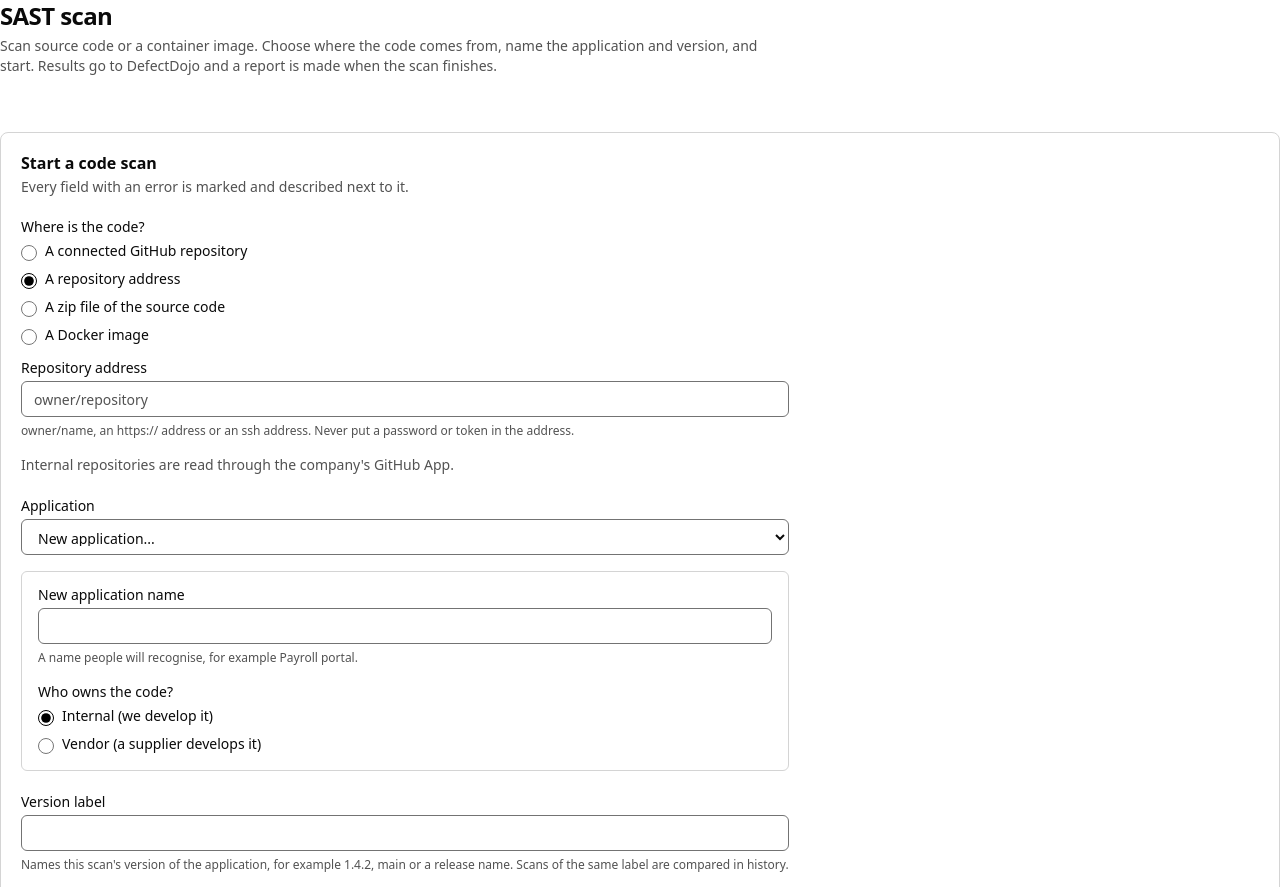
Test: SastPage › fixes the application to the one of a connected repository
Click the radio button labelled "A connected GitHub repository".
click(29, 253)  # box [21, 245, 37, 261]
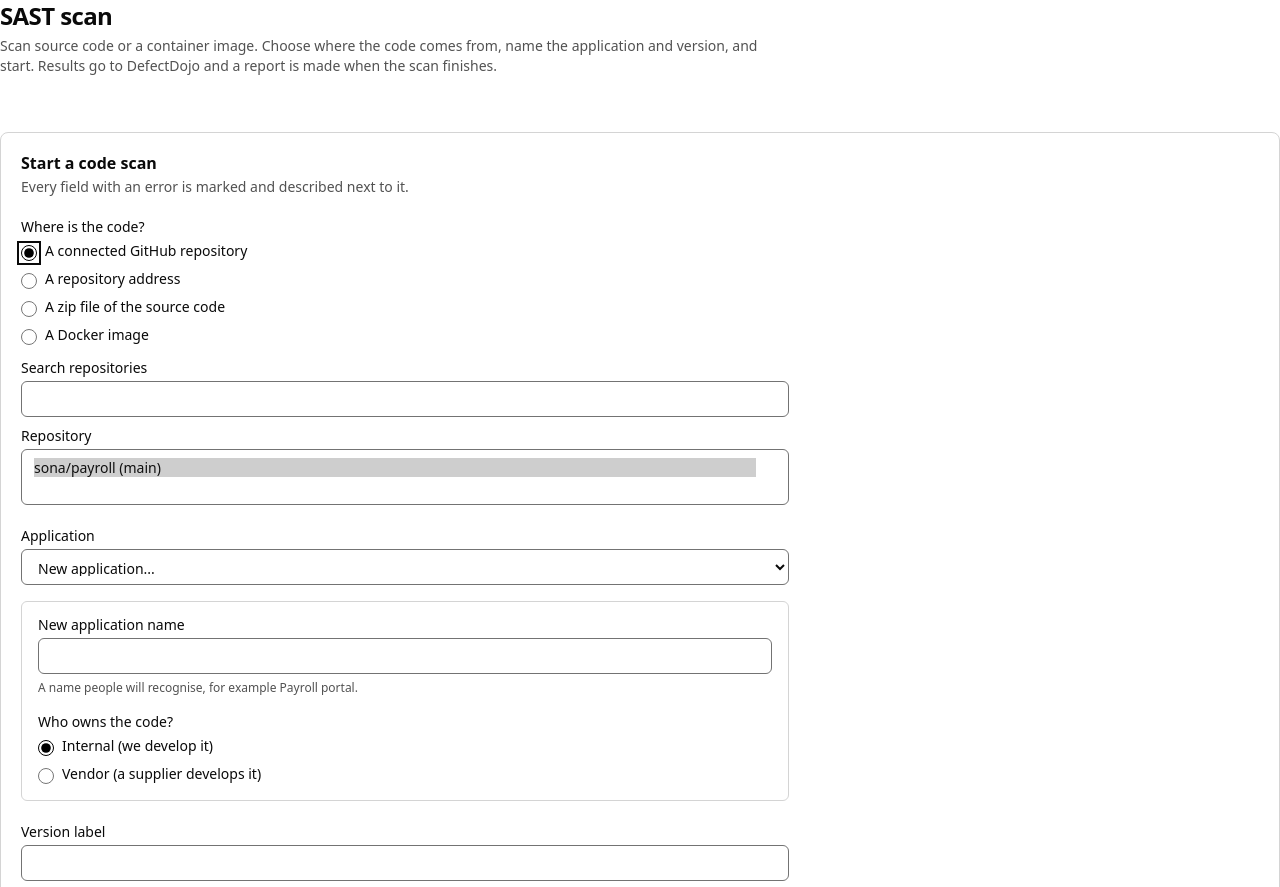
expect the option "sona/payroll" is shown: met, box [34, 458, 756, 477]
Select "sona/payroll (main)" in the dropdown labelled "Repository" at (405, 477), box [21, 449, 789, 505]
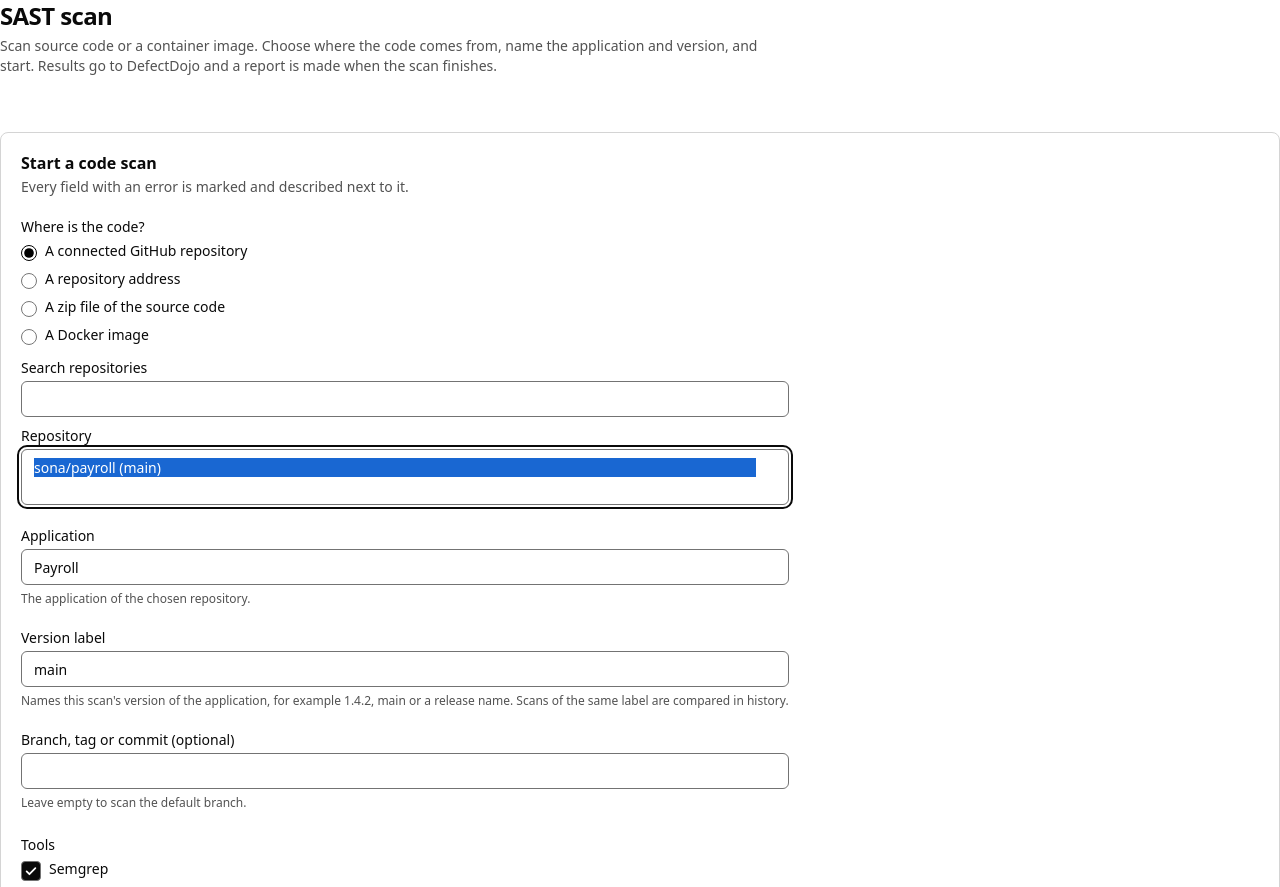
expect the field labelled "Application" holds "Payroll": met, box [21, 549, 789, 585]
expect the field labelled "Version label" holds "main": met, box [21, 651, 789, 687]
